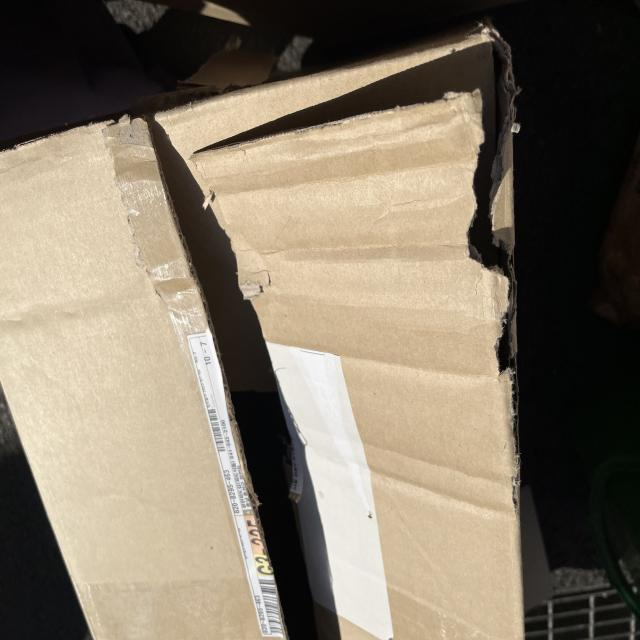damaged: (450, 38, 528, 386)
